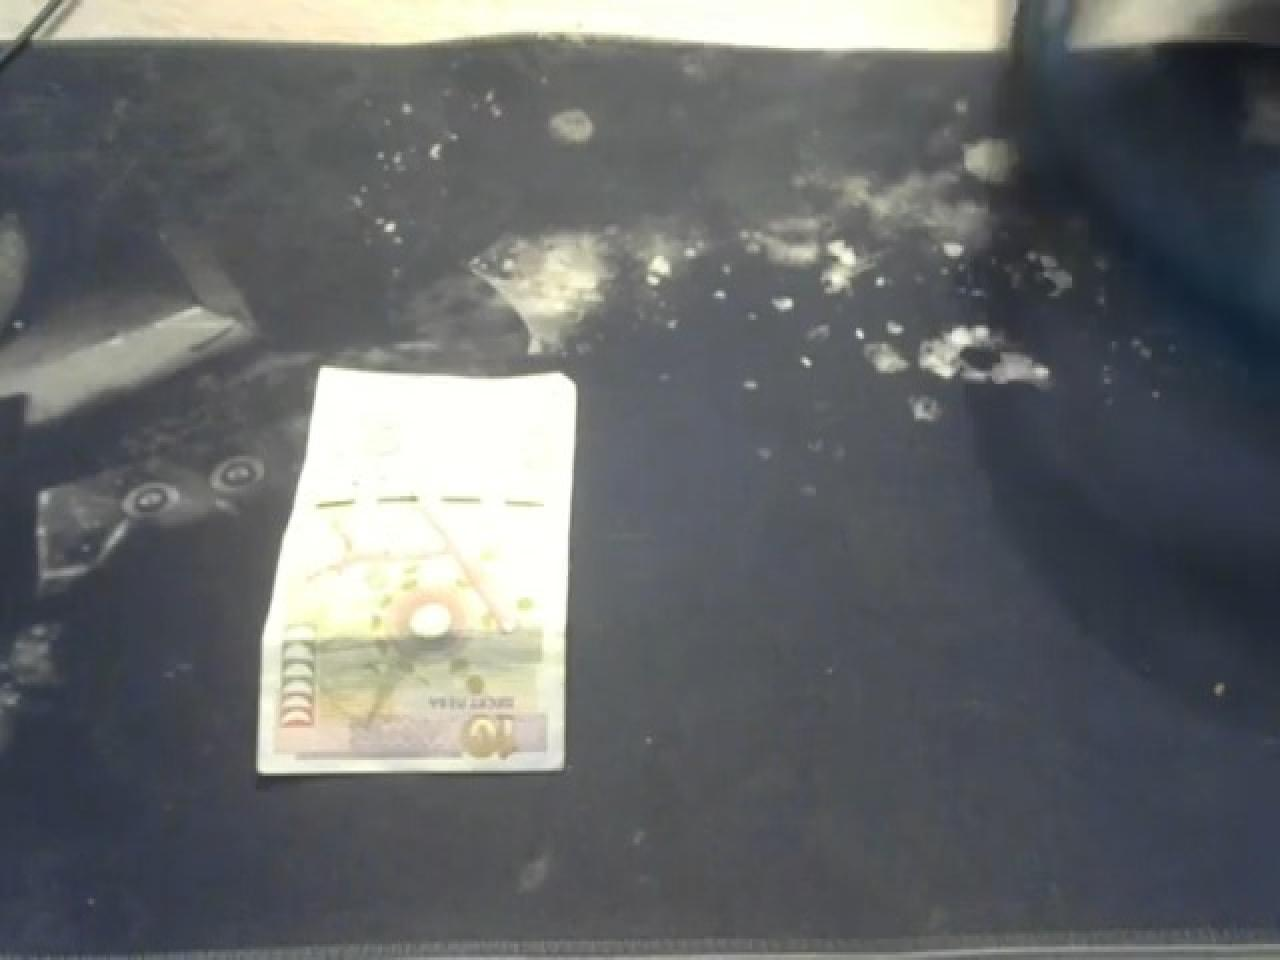10leva: (256, 368, 577, 776)
